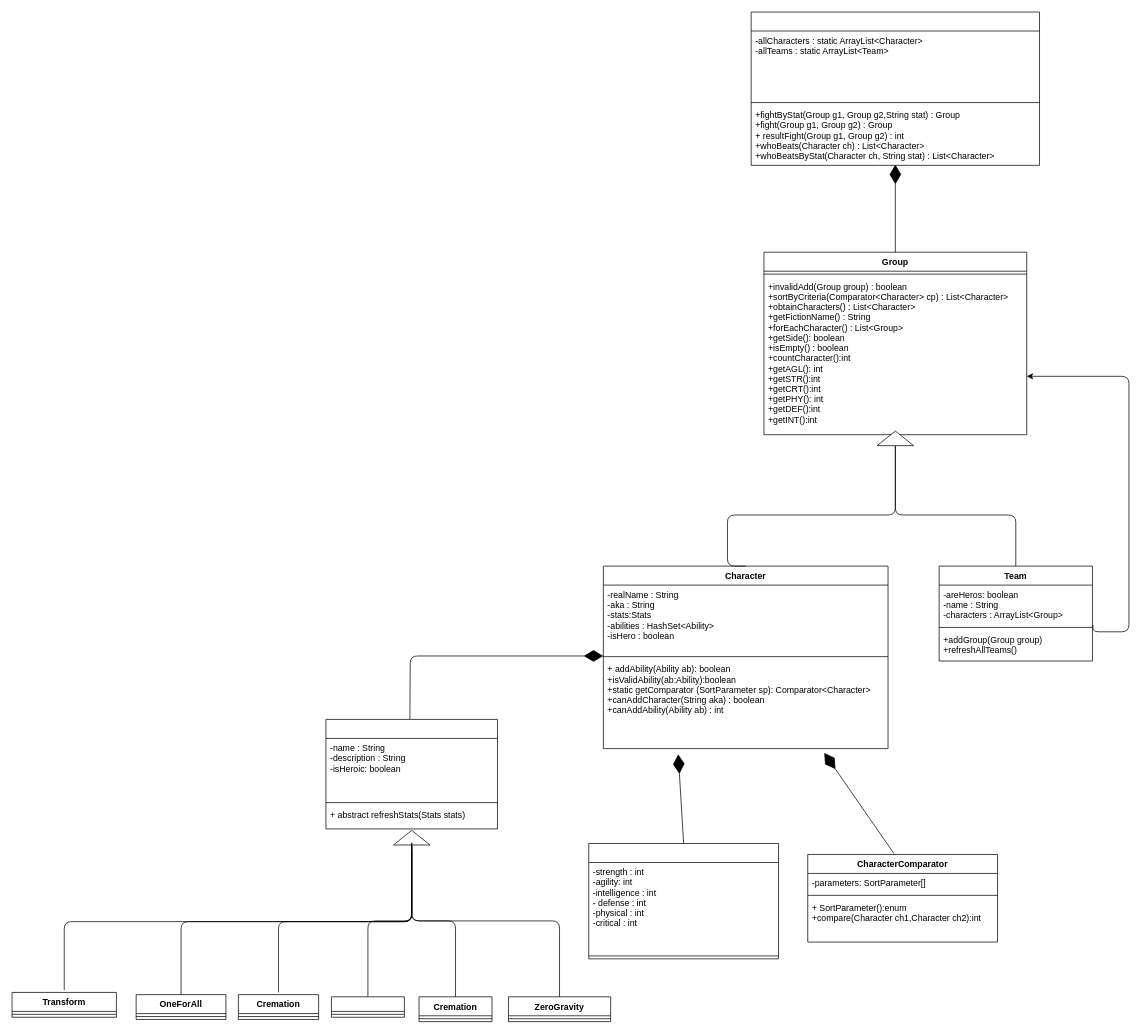
Image size: 1141x1034. Some labels were removed from this diagram. The box of each missing label's shape, as (x1, y1, x2, y2) in pixels:
Ability: (325, 719, 497, 829)
AllForOne: (331, 996, 404, 1017)
Game: (750, 11, 1040, 165)
Stats: (588, 843, 779, 959)
